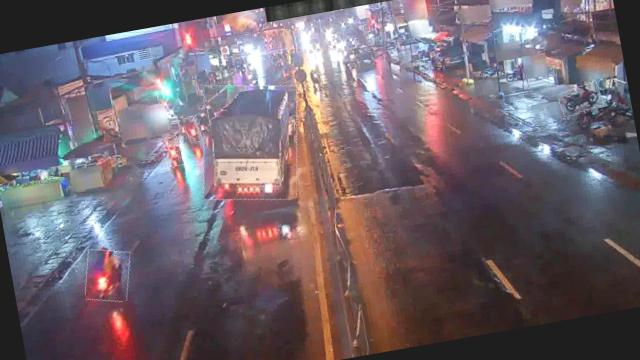Bike: (80, 245, 135, 306), (556, 82, 604, 116), (160, 135, 183, 168), (184, 115, 202, 144), (305, 64, 323, 89), (196, 109, 212, 134)
Truck: (190, 74, 310, 209)
